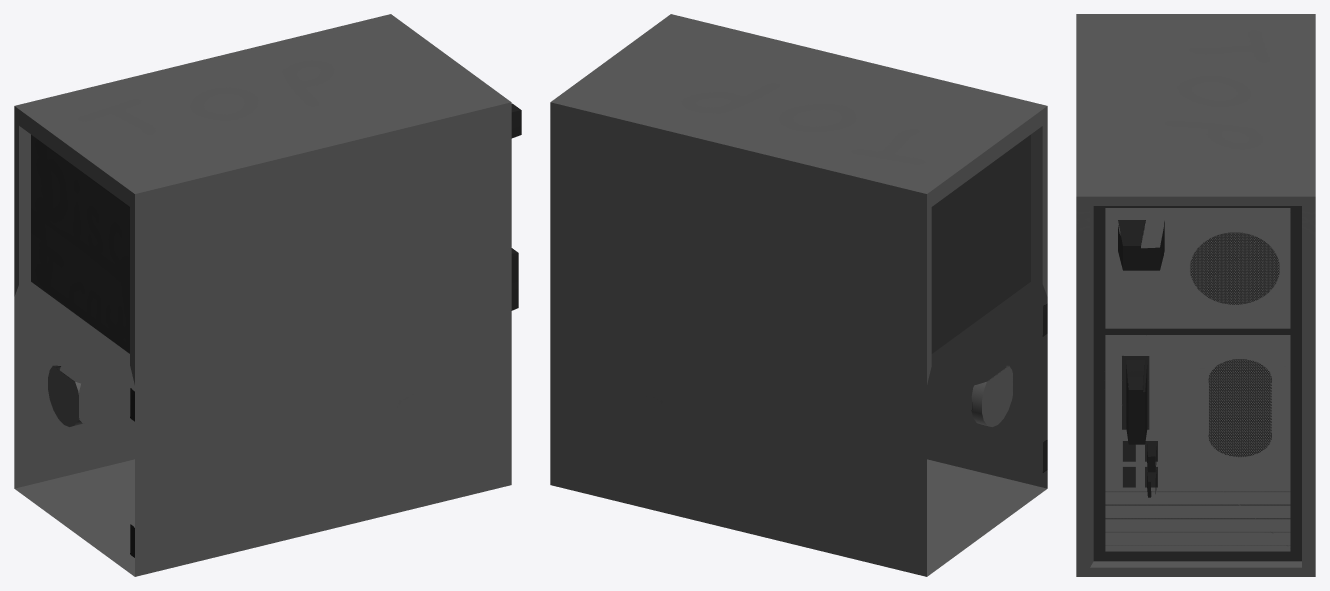
3 renders of one model, left to right at view 1: azimuth 30°, elevation 25°; view 2: azimuth 150°, elevation 25°; view 3: azimuth 270°, elevation 25°, orthographic.
Parts seen in each view (by area): view 1: PC; view 2: PC; view 3: PC.
Boxes of the visible parts, x1,y1,x2,y2 form: PC: [14, 14, 521, 576]; PC: [550, 14, 1047, 576]; PC: [1076, 14, 1315, 576].
Bounding box in the file's own units: 22.35 × 19.43 × 11.09.
1 material, 1 textured.
